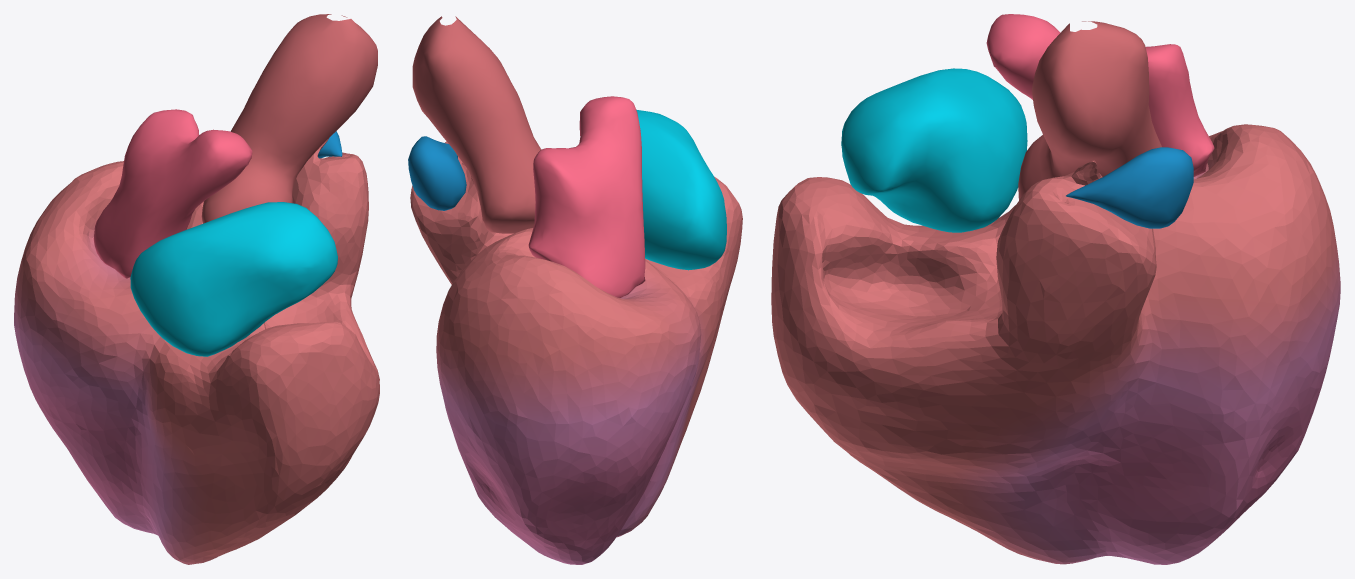
The model's file is frame_69.glb.
3 renders of one model, left to right at view 1: azimuth 30°, elevation 25°; view 2: azimuth 150°, elevation 25°; view 3: azimuth 270°, elevation 25°, orthographic. The views are drawn at different scales.
Visible parts, largest first — view 1: Renderer Node; view 2: Renderer Node; view 3: Renderer Node.
Boxes of the visible parts, x1,y1,x2,y2 form: Renderer Node: (14, 14, 379, 564); Renderer Node: (408, 16, 742, 564); Renderer Node: (771, 14, 1340, 564).
Size of the model in its own units: 102 by 159 by 128.
